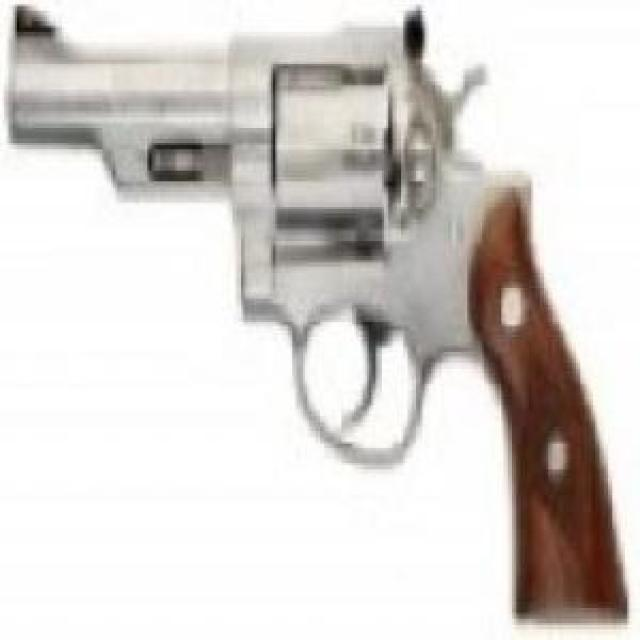pistol: (9, 6, 628, 632)
